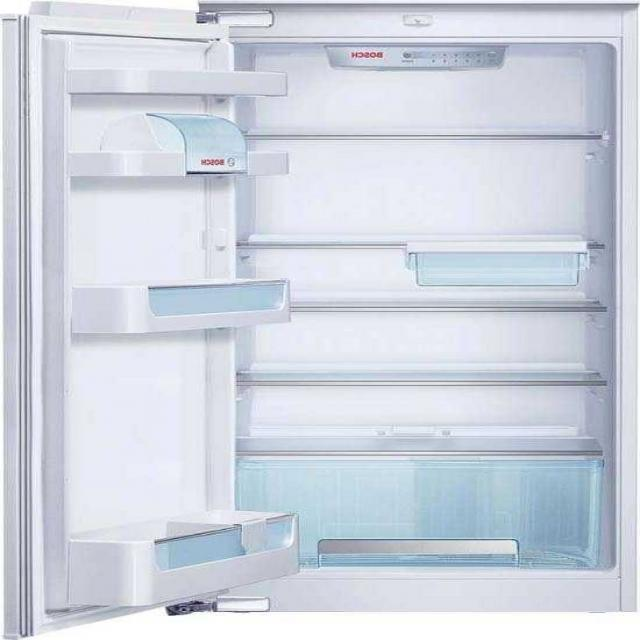refrigerator: (31, 16, 622, 576)
